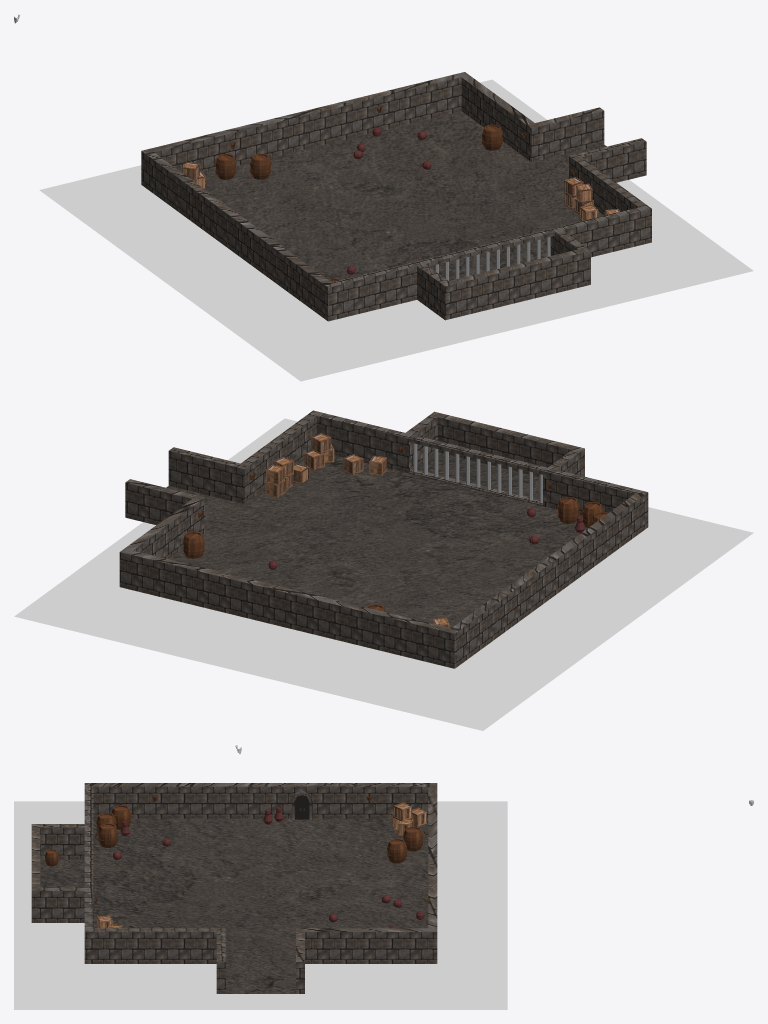
The model's file is room_one.gltf.
3 renders of one model, top to bottom at view 1: azimuth 30°, elevation 25°; view 2: azimuth 150°, elevation 25°; view 3: azimuth 270°, elevation 25°, orthographic. The views are drawn at different scales.
Parts seen in each view (by area): view 1: Plane.001, Plane, Plane.005, Plane.002; view 2: Plane, Plane.001, Plane.005, Plane.002; view 3: Plane.005, Plane, Plane.001, Cube.002, beczka.005, beczka.003, beczka.004.
Part boxes in pixels (<box>): Plane.001: <box>141,72,651,321</box>; Plane: <box>39,79,753,381</box>; Plane.005: <box>204,111,606,280</box>; Plane.002: <box>435,237,550,280</box>; Plane: <box>14,418,753,730</box>; Plane.001: <box>119,410,648,668</box>; Plane.005: <box>166,452,587,627</box>; Plane.002: <box>413,443,542,502</box>; Plane.005: <box>40,818,428,993</box>; Plane: <box>14,801,507,1009</box>; Plane.001: <box>31,783,437,993</box>; Cube.002: <box>292,791,312,819</box>; beczka.005: <box>387,838,407,863</box>; beczka.003: <box>98,823,118,847</box>; beczka.004: <box>403,826,423,851</box>.
Bounding box in the file's own units: 28 × 3.21 × 41.96.
6 materials, 4 textured.
